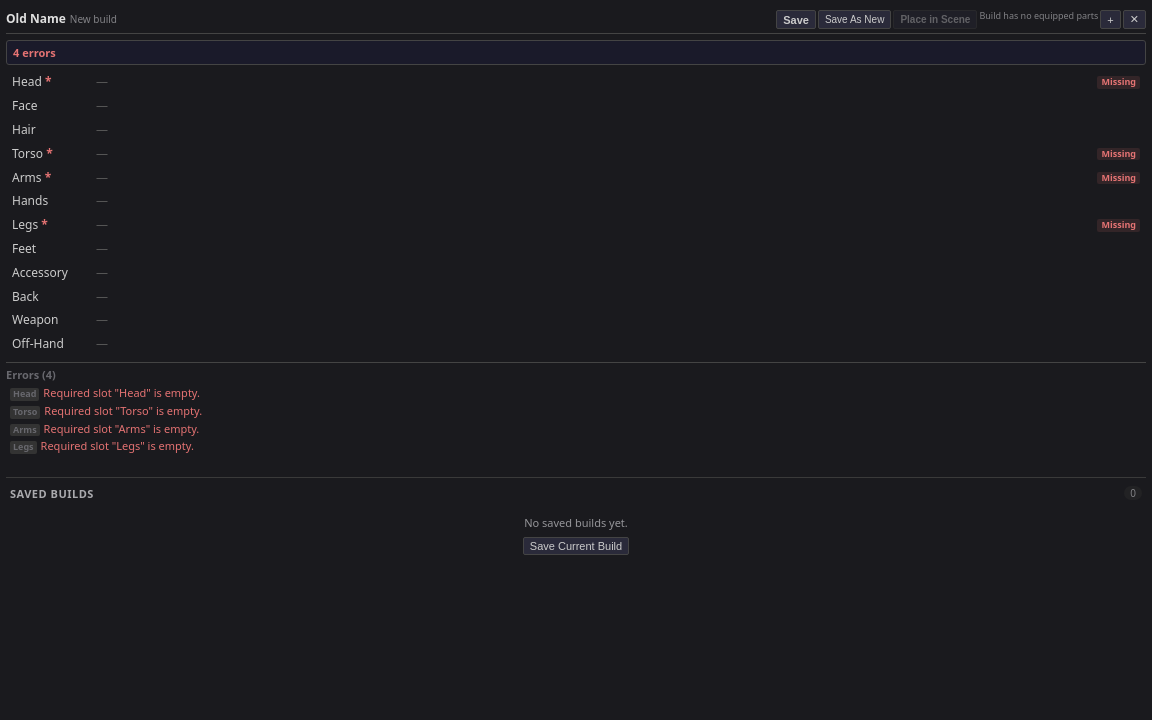
Test case: build lifecycle › rename updates displayed build name
Double-click the text with test id "char-build-name".
double_click(36, 19)  # box [6,10,66,27]
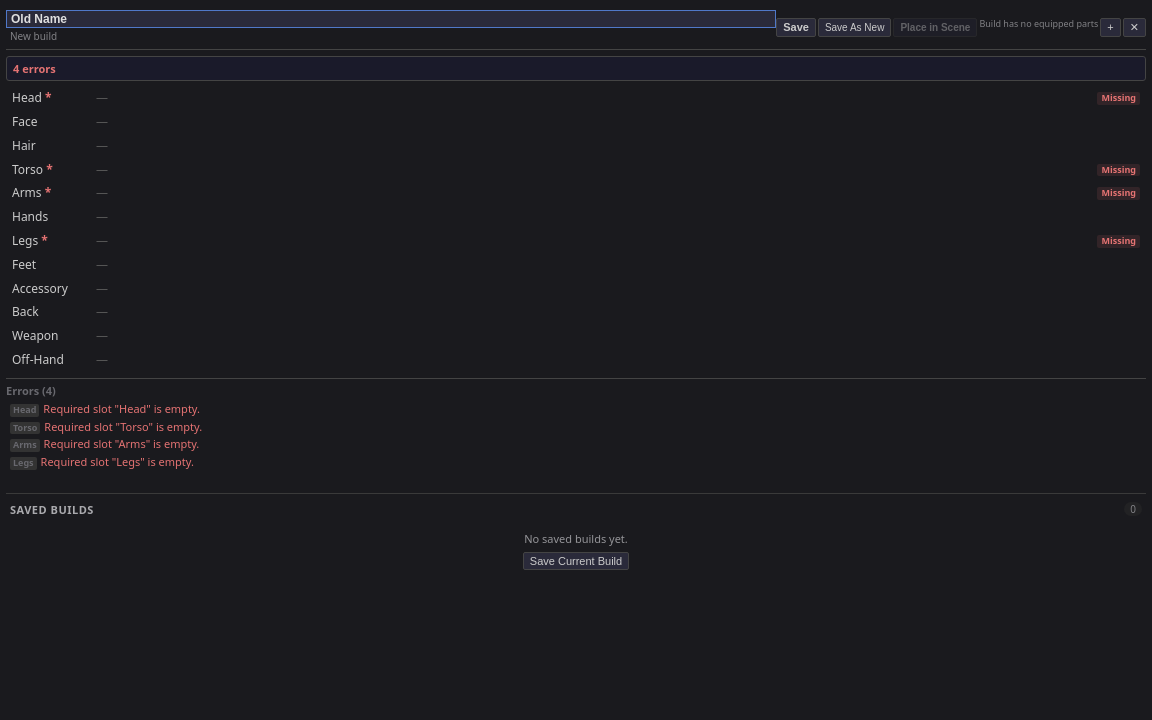
Replace the text in the field with test id "char-rename-input" with "New Name" at {"x": 391, "y": 19}, box [6,10,776,28]
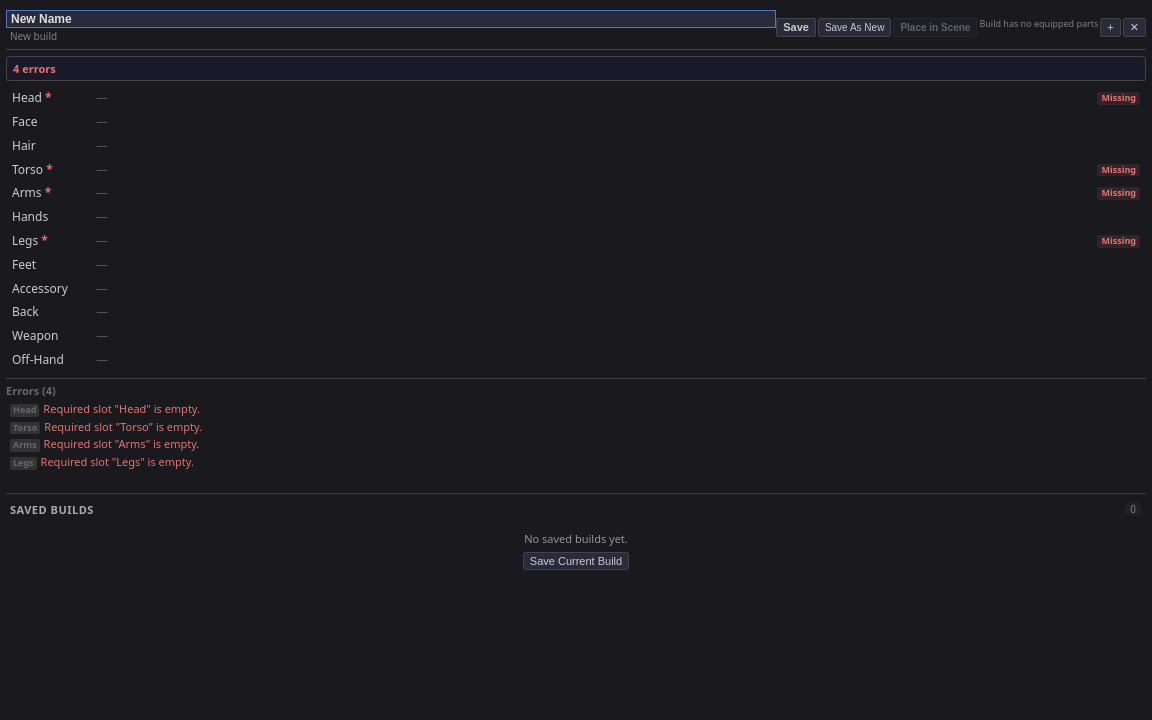
Leave the field with test id "char-rename-input", box [6,10,776,28]
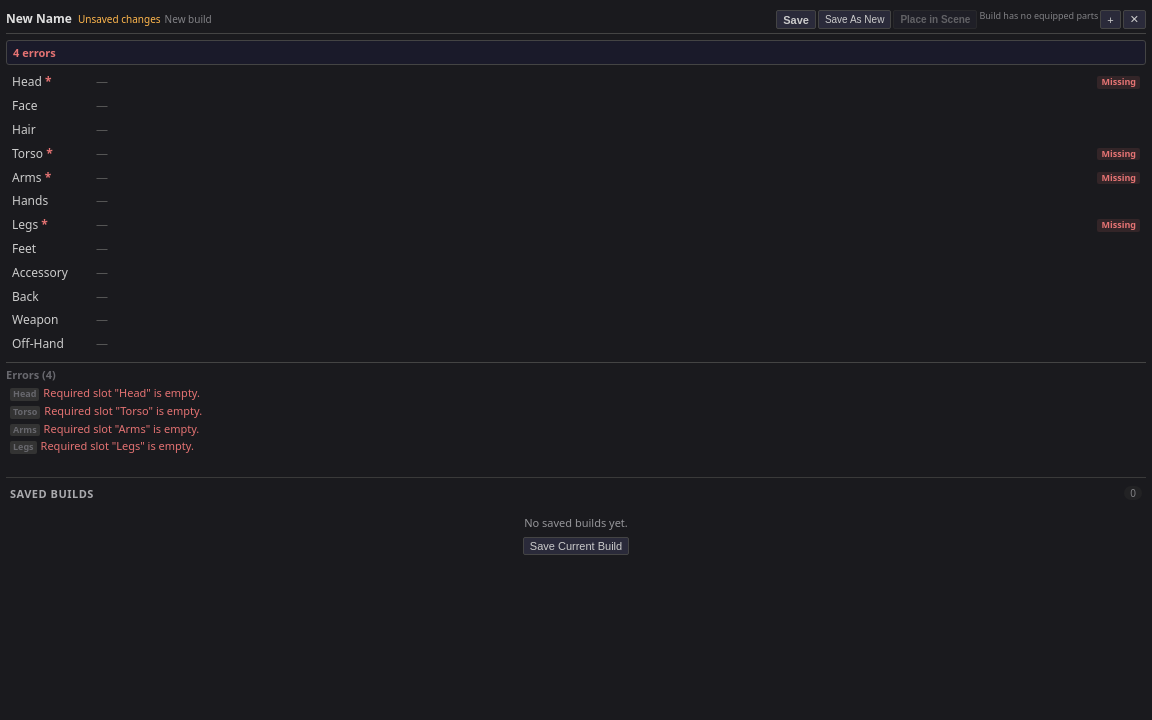
Result: the text "New Name" is shown at [6,10,72,27]
